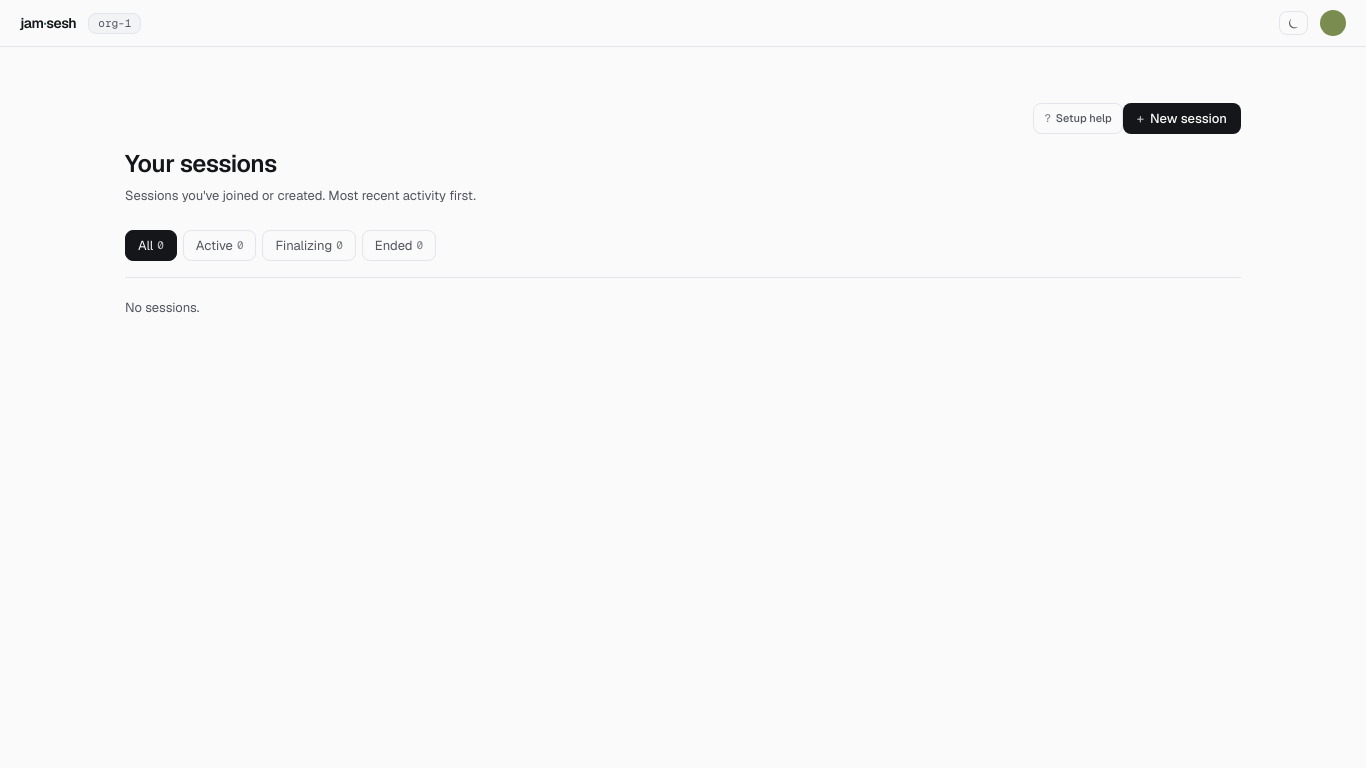
it: SessionList › opens new session drawer on button click
Click the button "+ New session".
click(1182, 118)  # box top-left (1123, 103), bottom-right (1241, 134)
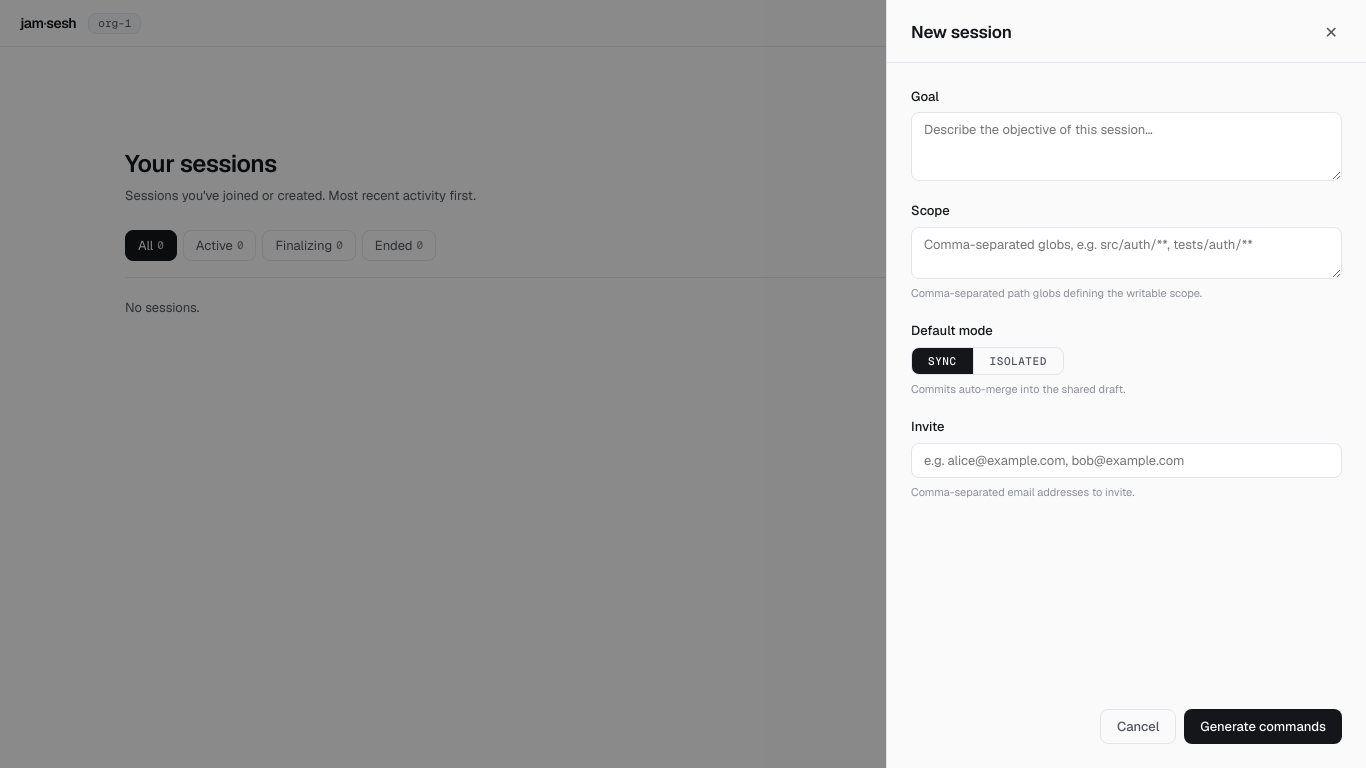
expect the button "Generate commands" is shown: met, box top-left (1184, 709), bottom-right (1342, 744)
